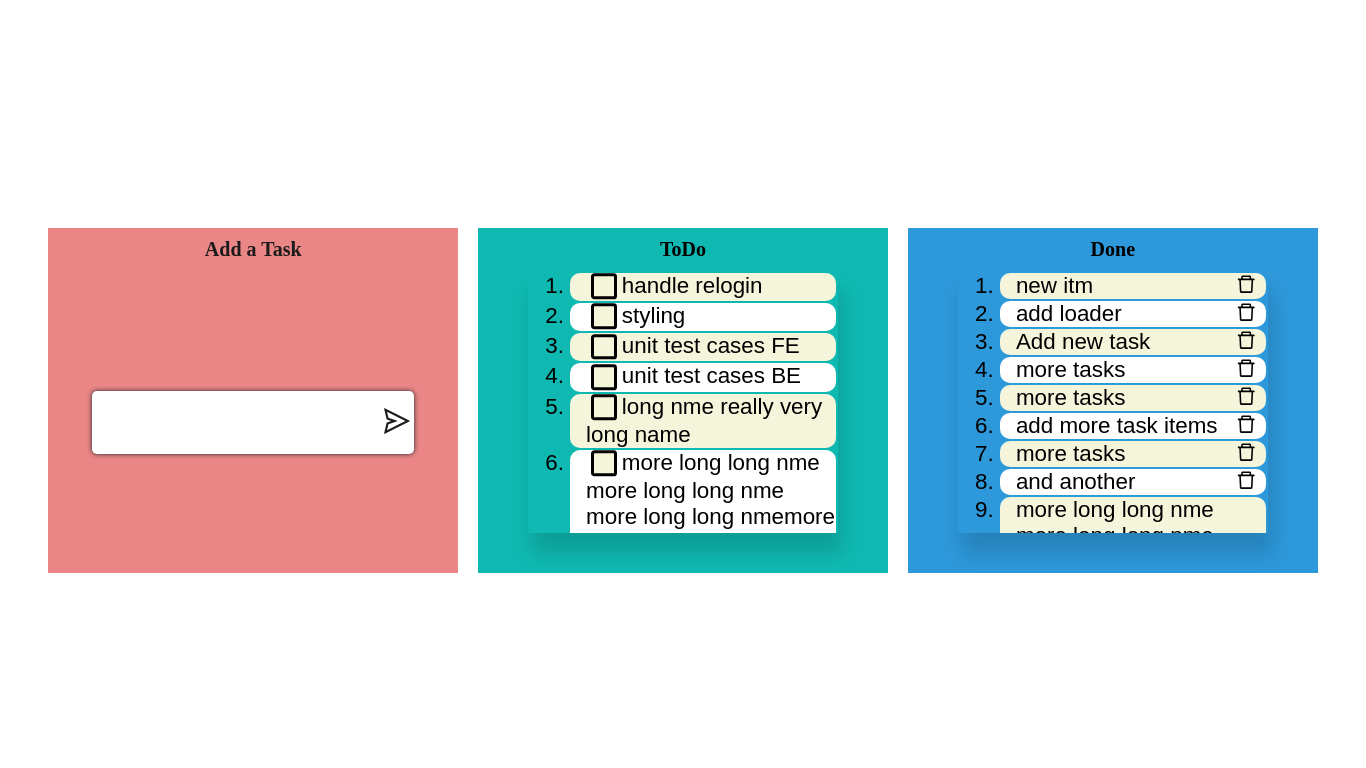
Scenario: Body component › Should Mark Todo Task Done and toast should appear
This screenshot has width=1366, height=768.
Click the checkbox next to "handle relogin" at {"x": 604, "y": 286}, box 591,274 -> 617,299
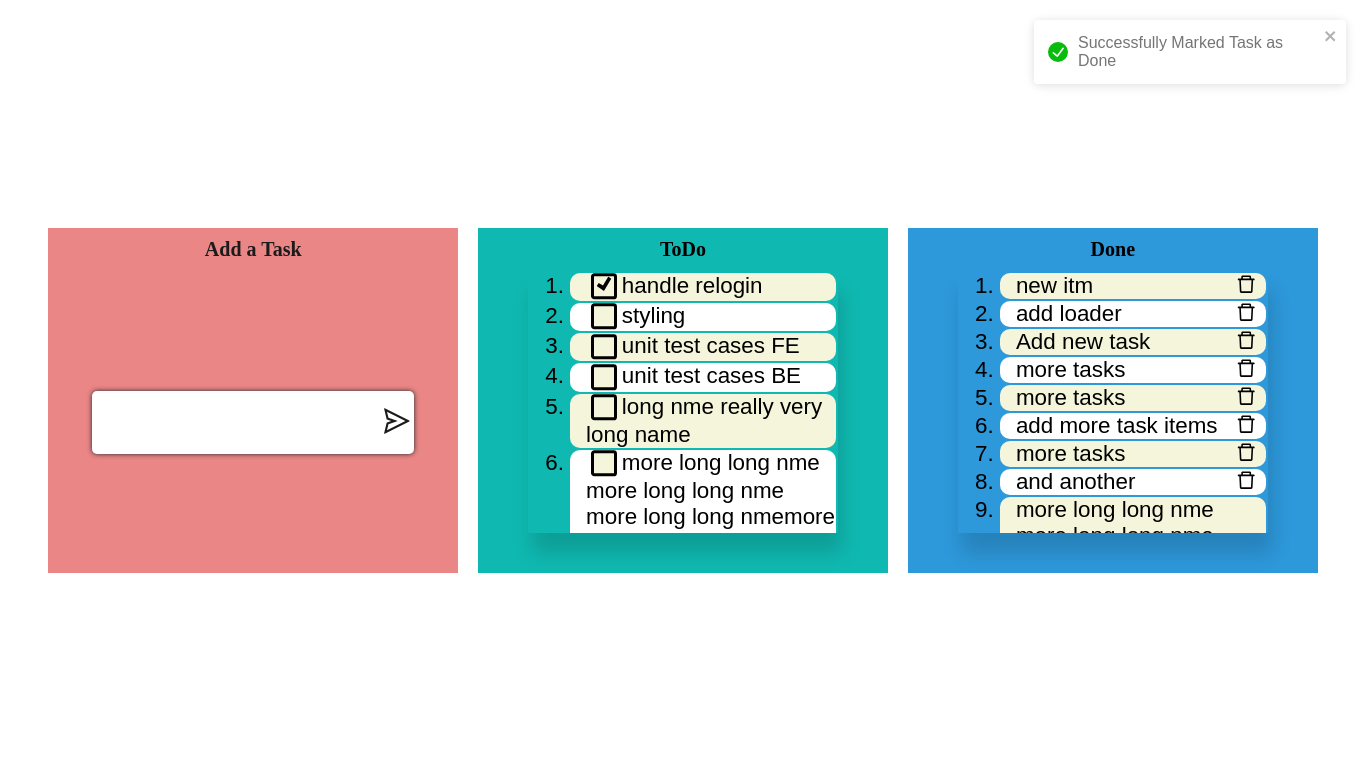
Expected: the text "Successfully Marked Task as Done" is shown, 1078,34 -> 1318,70
